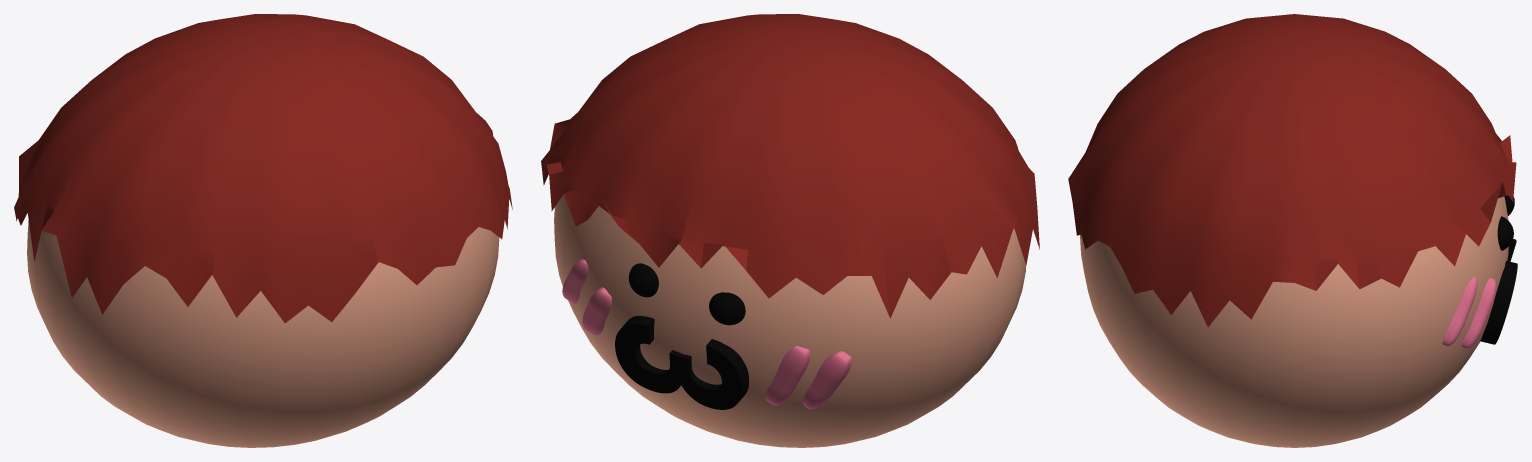
Rendered from colon.glb.
3 renders of one model, left to right at view 1: azimuth 30°, elevation 25°; view 2: azimuth 150°, elevation 25°; view 3: azimuth 270°, elevation 25°, orthographic.
Visible parts, largest first — view 1: cheveux, tete; view 2: cheveux, tete, le 3, Blush Droit 1, Blush Droit, Oeil Droit, Blush Gauche 2, Oeil Gauche, Blush Gauche 1; view 3: cheveux, tete, le 3, Blush Gauche 2, Blush Gauche 1.
Boxes of the visible parts, x1,y1,x2,y2 form: cheveux: (14,14,512,323); tete: (27,221,499,447); cheveux: (541,14,1039,318); tete: (554,194,1026,447); le 3: (615,315,748,409); Blush Droit 1: (803,351,851,409); Blush Droit: (765,346,810,405); Oeil Droit: (709,292,745,325); Blush Gauche 2: (582,287,611,335); Oeil Gauche: (628,263,658,297); Blush Gauche 1: (562,259,588,303); cheveux: (1068,14,1516,327); tete: (1080,196,1508,447); le 3: (1480,239,1517,344); Blush Gauche 2: (1461,278,1496,348); Blush Gauche 1: (1442,276,1477,346).
Bounding box in the file's own units: 1.23 × 1.02 × 1.09.
